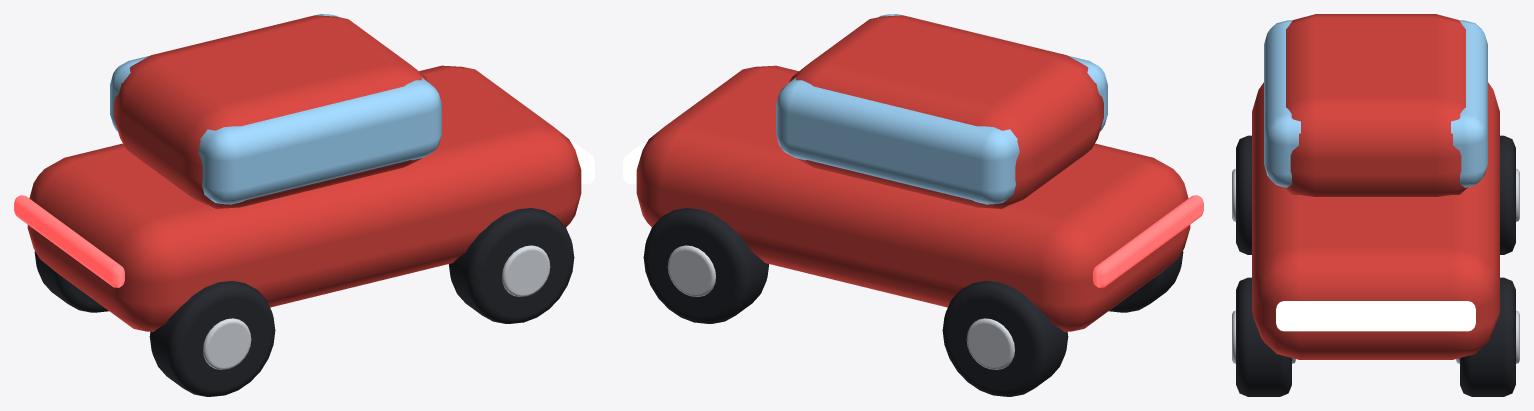
The model's file is car.glb.
3 renders of one model, left to right at view 1: azimuth 30°, elevation 25°; view 2: azimuth 150°, elevation 25°; view 3: azimuth 270°, elevation 25°, orthographic. The views are drawn at different scales.
Visible parts, largest first — view 1: body, wheel_1R, wheel_0R, wheel_1L; view 2: body, wheel_1L, wheel_0L, wheel_1R; view 3: body, wheel_0L, wheel_0R, wheel_1L, wheel_1R.
Part boxes in pixels (<box>): body: <box>14,14,594,331</box>; wheel_1R: <box>149,281,275,396</box>; wheel_0R: <box>448,208,574,323</box>; wheel_1L: <box>34,251,108,312</box>; body: <box>623,14,1203,331</box>; wheel_1L: <box>942,281,1068,396</box>; wheel_0L: <box>643,208,769,323</box>; wheel_1R: <box>1109,251,1183,312</box>; body: <box>1252,14,1499,359</box>; wheel_0L: <box>1456,277,1519,396</box>; wheel_0R: <box>1232,277,1295,396</box>; wheel_1L: <box>1500,135,1519,254</box>; wheel_1R: <box>1232,135,1251,254</box>.
Size of the model in its own units: 1.36 by 0.69 by 0.72.
